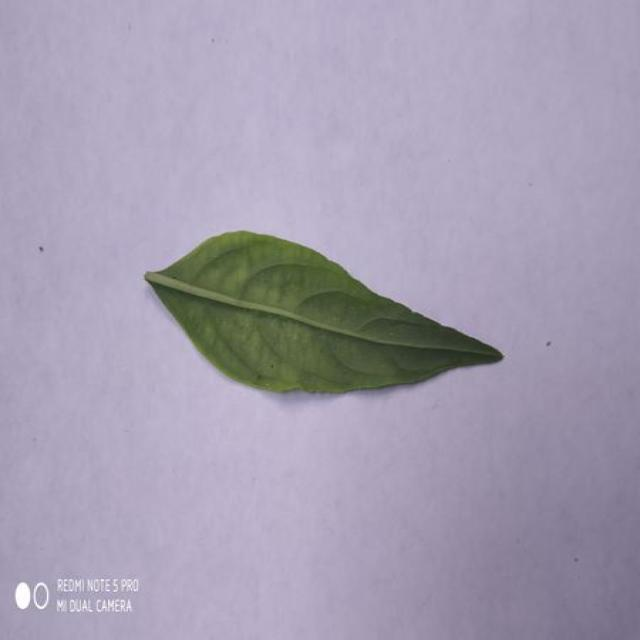Nelavembu: (145, 231, 502, 392)
